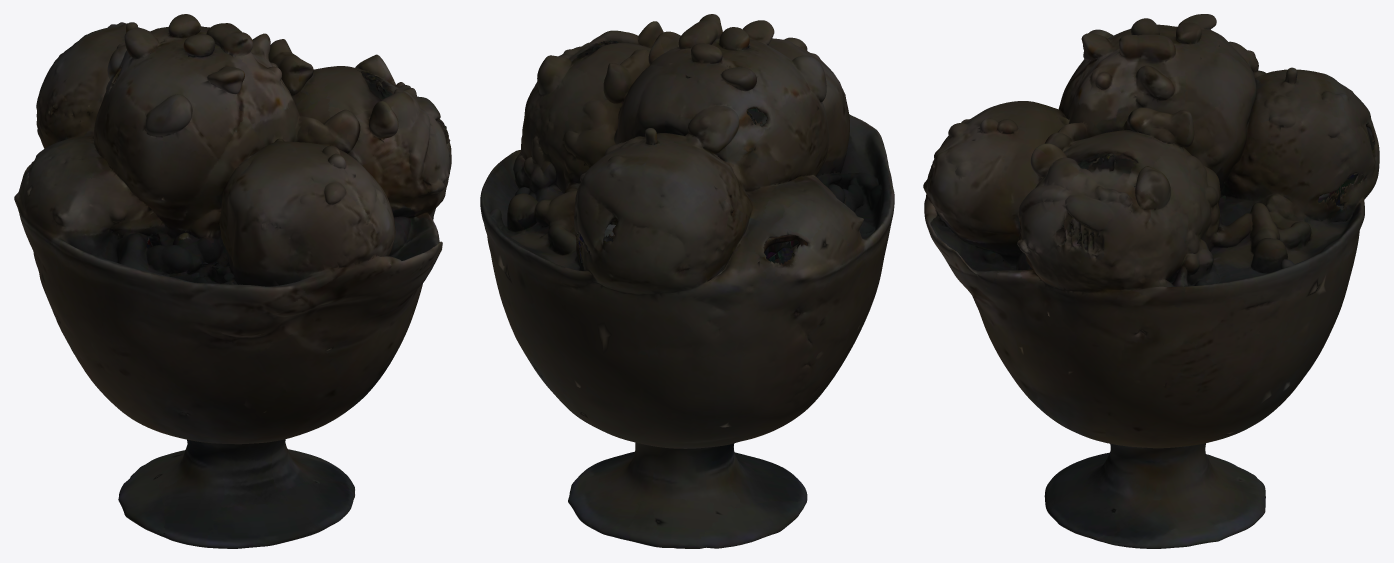
File: Peanut_Butter.glb
3 views of the same model, side by side, from view 1: azimuth 30°, elevation 25°; view 2: azimuth 150°, elevation 25°; view 3: azimuth 270°, elevation 25° (orthographic). The views are drawn at different scales.
Size of the model in its own units: 1.57 by 1.99 by 1.78.
Materials: 1 (1 with a texture image).
